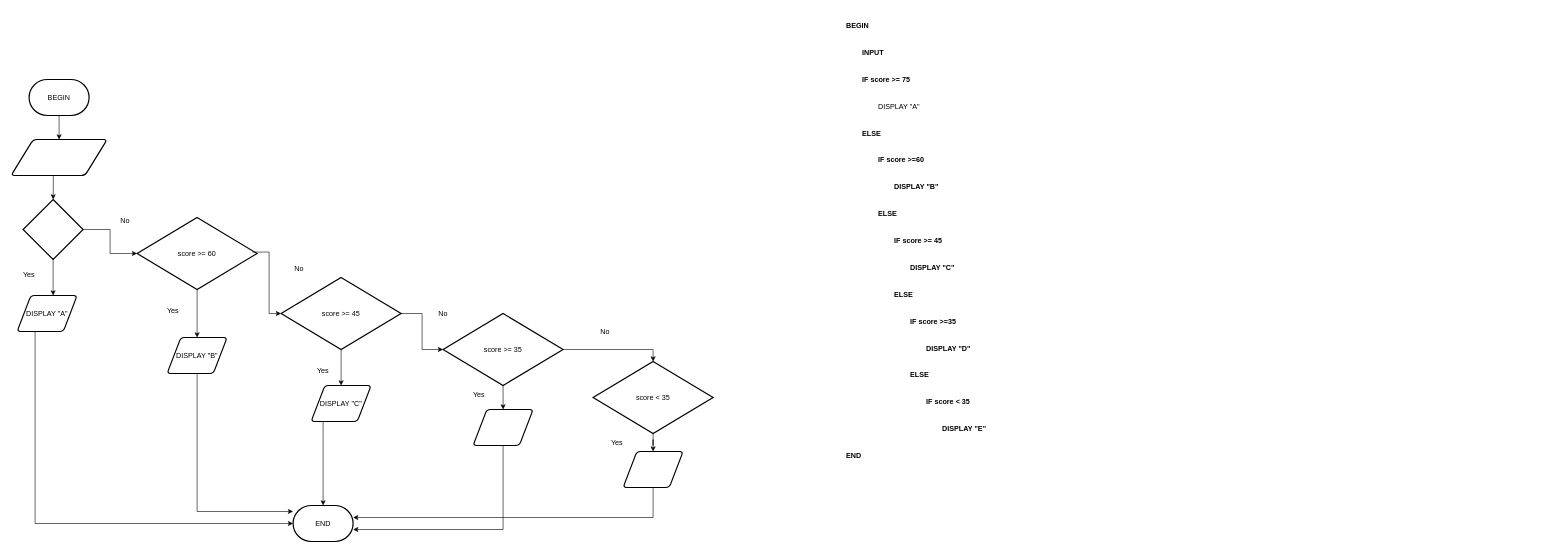
Image size: 1563x552. Some labels were removed from this diagram. Each missing label, with the centre of its shape:
DISPLAY "D": [502,427]
DISPLAY "E": [652,469]
INPUT score: [58,157]
score >= 75: [52,229]
